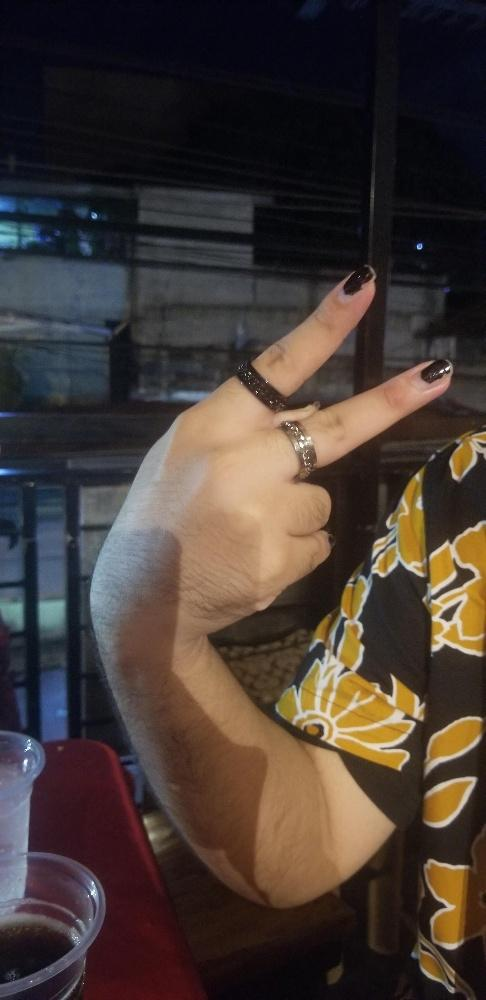k: (86, 264, 453, 627)
